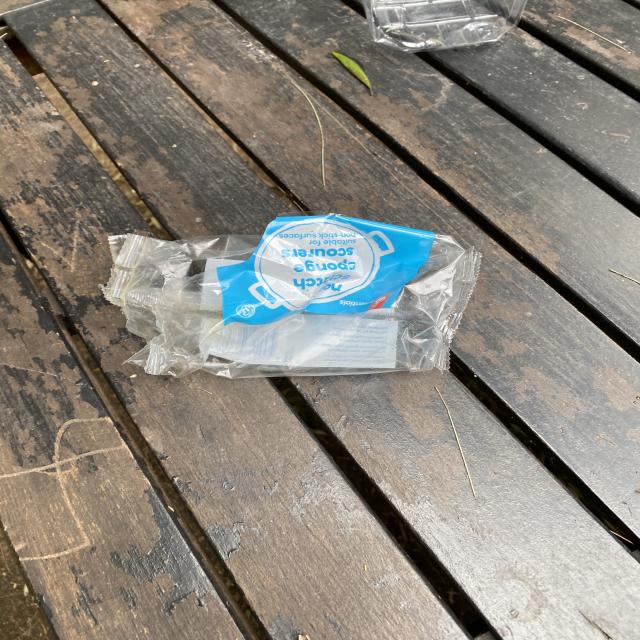wrappers: (102, 213, 482, 379)
